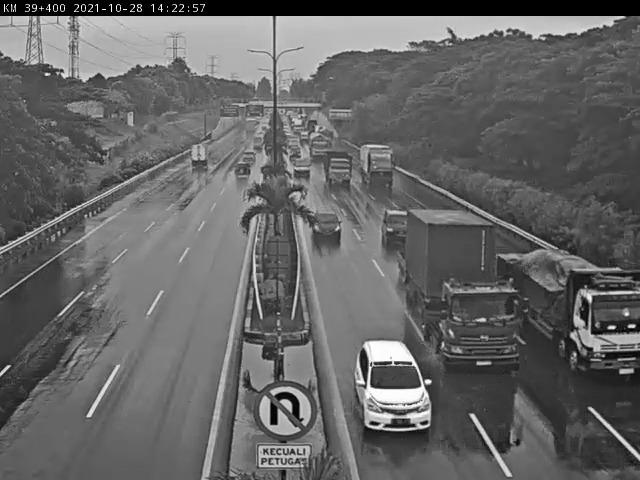truck-l-: (359, 144, 395, 183)
truck-m-: (322, 147, 355, 188)
truck-xl-: (403, 205, 523, 367), (497, 251, 640, 376)
